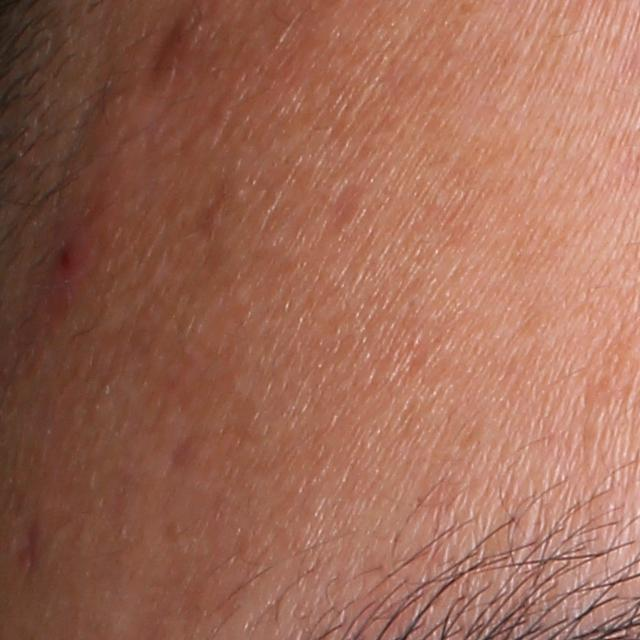atrophic_scar: (15, 517, 42, 573)
